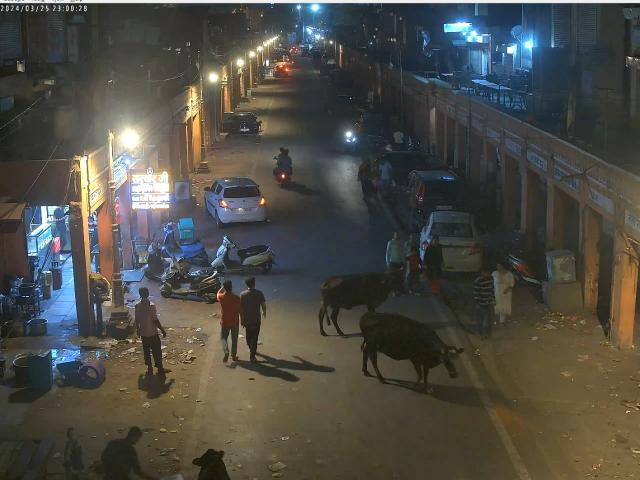car: (418, 211, 482, 274), (394, 170, 470, 221), (203, 178, 266, 226)
cattle: (360, 310, 464, 397), (318, 268, 413, 336), (192, 445, 232, 480)
license_plate: (442, 248, 460, 254), (436, 206, 452, 210), (238, 208, 252, 212)
person: (134, 286, 168, 372), (239, 277, 264, 362), (217, 280, 241, 362), (474, 268, 494, 334), (424, 235, 446, 293), (493, 262, 514, 321), (386, 233, 406, 279), (406, 246, 422, 296)
scooty: (159, 260, 223, 302), (211, 236, 275, 276), (160, 220, 208, 264), (142, 238, 189, 279)
